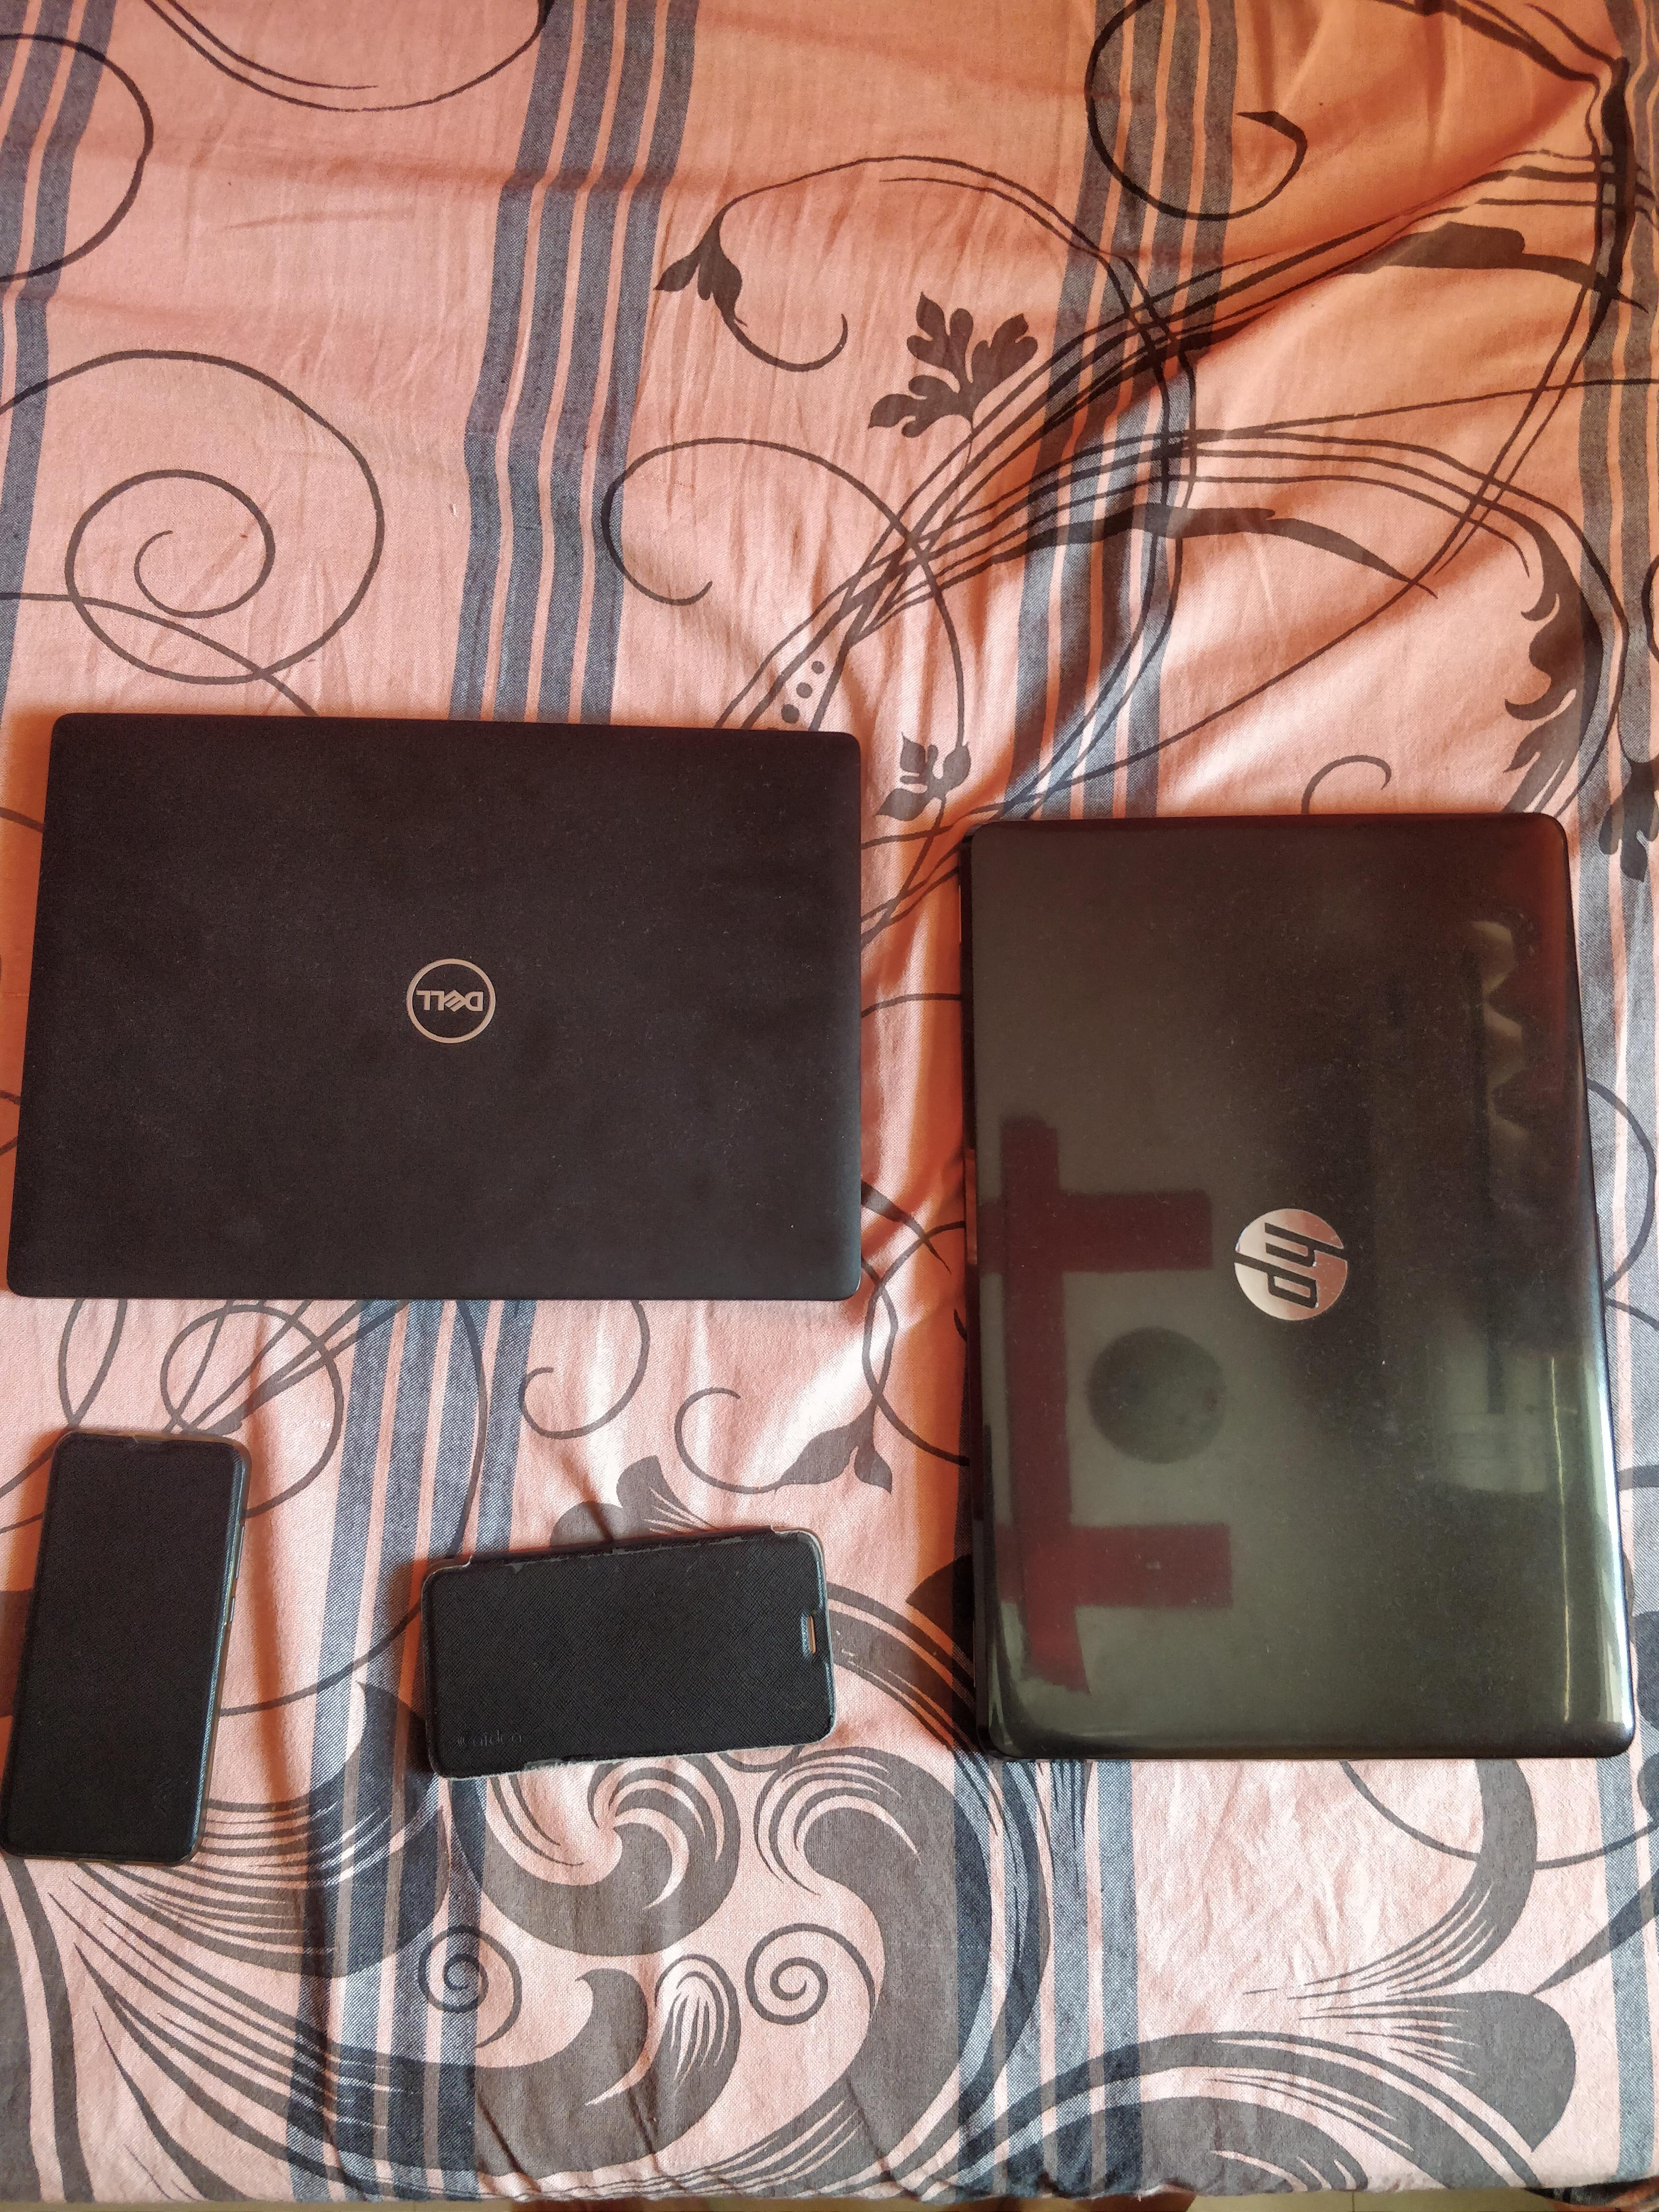Phone: (396, 1496, 864, 1832), (0, 1397, 265, 1909)
laptop: (931, 749, 1659, 1813), (0, 660, 906, 1339)
